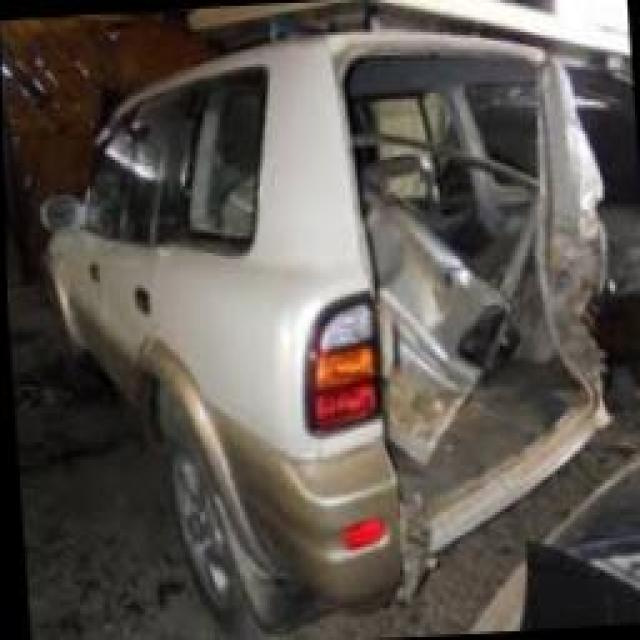Dickey: (343, 54, 604, 522)
